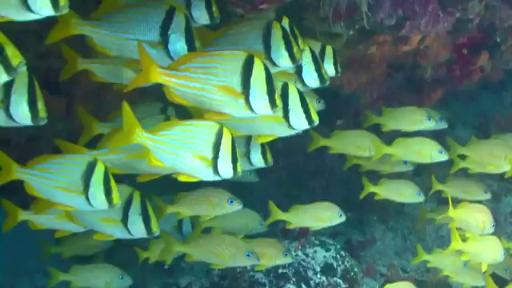Fish: (125, 45, 282, 119), (98, 102, 241, 181), (46, 1, 199, 59), (0, 152, 120, 210), (216, 83, 319, 142), (200, 20, 302, 70), (71, 185, 159, 239), (55, 140, 168, 177), (163, 234, 259, 268), (60, 44, 140, 84), (2, 200, 87, 237), (86, 34, 173, 67), (156, 188, 243, 220), (448, 224, 505, 271), (0, 71, 47, 127), (429, 196, 495, 235), (274, 46, 329, 91), (265, 201, 346, 230), (194, 208, 267, 237), (308, 130, 383, 156), (373, 137, 448, 163), (48, 264, 132, 287), (43, 232, 113, 259), (447, 137, 511, 164), (364, 107, 435, 131), (360, 177, 425, 203), (77, 108, 122, 145), (157, 0, 220, 26), (245, 238, 292, 271), (0, 0, 69, 22), (429, 176, 491, 200), (412, 244, 467, 270), (0, 32, 26, 85), (304, 39, 341, 76), (344, 155, 414, 174), (235, 136, 273, 170), (451, 157, 511, 177), (442, 263, 485, 286), (135, 237, 164, 263), (488, 254, 511, 280), (423, 108, 447, 130), (304, 91, 326, 111), (228, 171, 259, 183), (384, 281, 415, 287)
